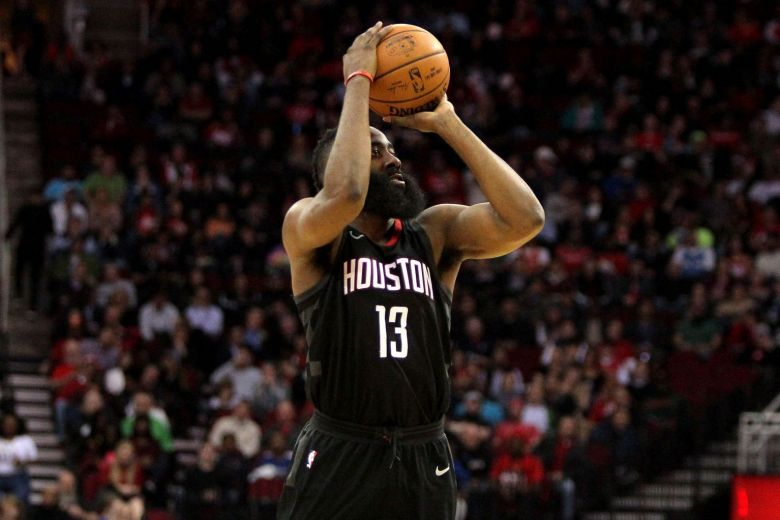Basketball: (369, 19, 451, 117)
